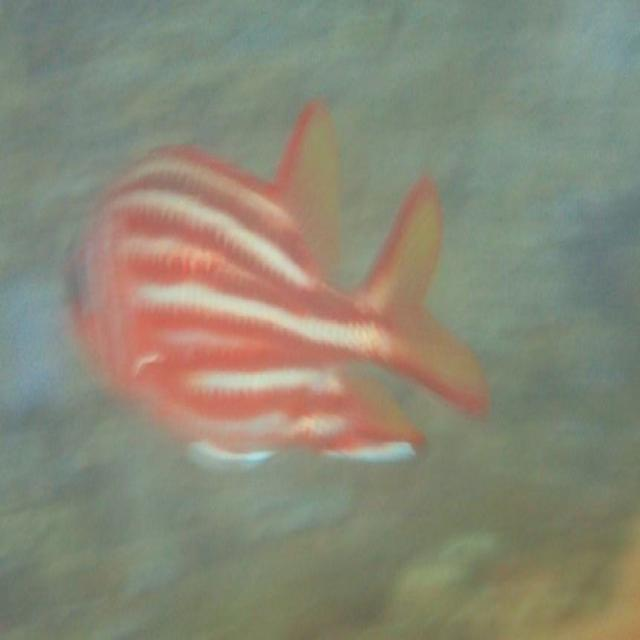Asker Baligi: (63, 95, 491, 469)
